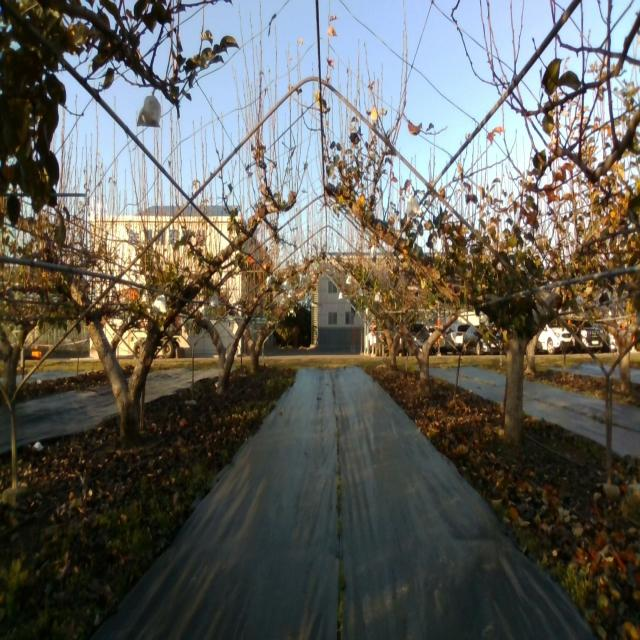pearbags: (137, 95, 161, 128), (406, 195, 422, 222), (153, 294, 167, 316)
